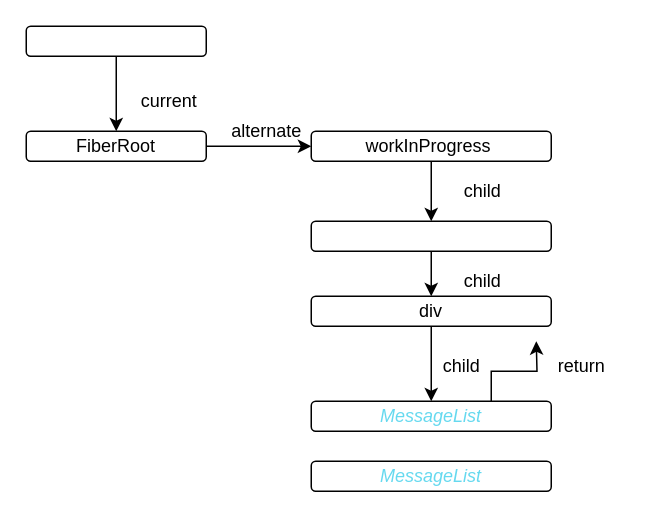
Some shapes in this 645 by 518 pixel diagram are drawn without their labels. Each missing label, with the box of its shape:
App: (310, 220, 551, 251)
ReactRootFiber: (25, 25, 206, 56)
